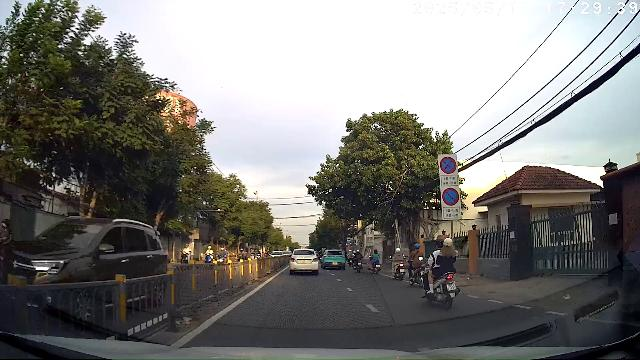130-cam-dung-va-do-xe: (439, 156, 456, 173)
131a-cam-do-xe: (442, 188, 460, 206)
